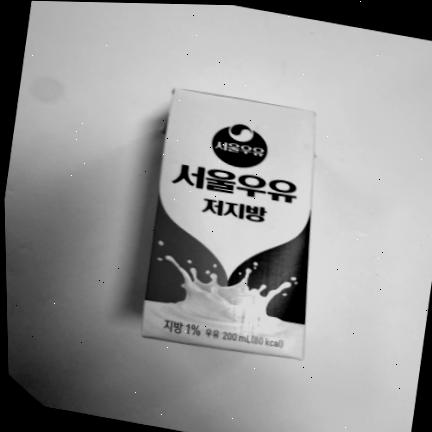milk_blue: (142, 89, 315, 360)
